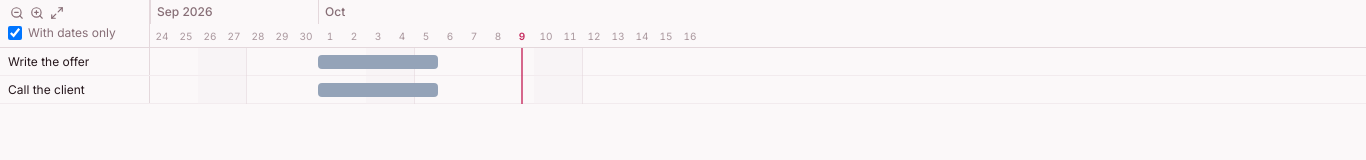
Test case: renaming on the timeline › saves it on leaving the field
Double-click the element showing "Call the client" at coordinates (75, 90), box top-left (0, 76), bottom-right (150, 103)
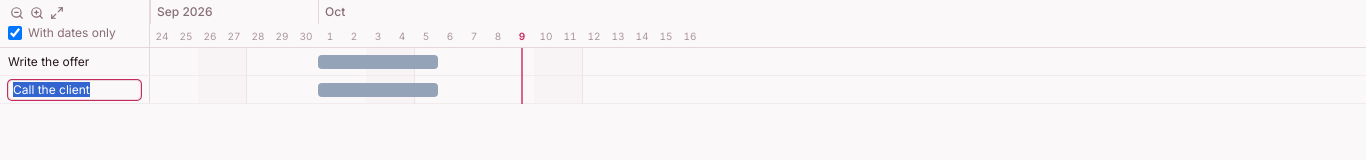
Replace the text in the field with "Email the client" at coordinates (74, 90), box top-left (8, 80), bottom-right (141, 100)
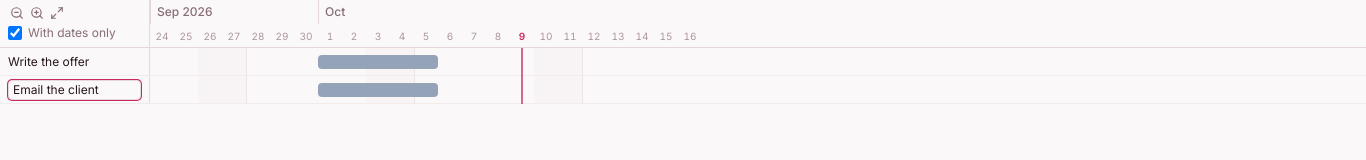
Leave the field, box top-left (8, 80), bottom-right (141, 100)
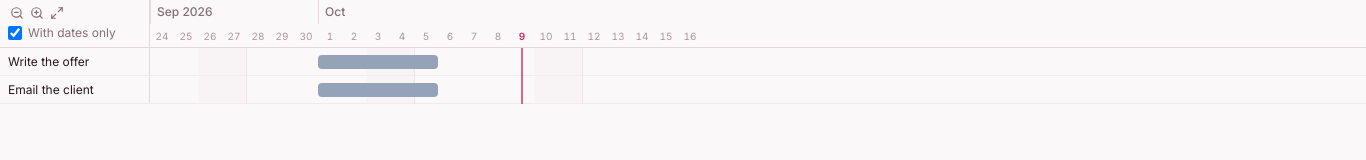
Expected: the text "Email the client" is shown, top-left (8, 82), bottom-right (94, 98)
